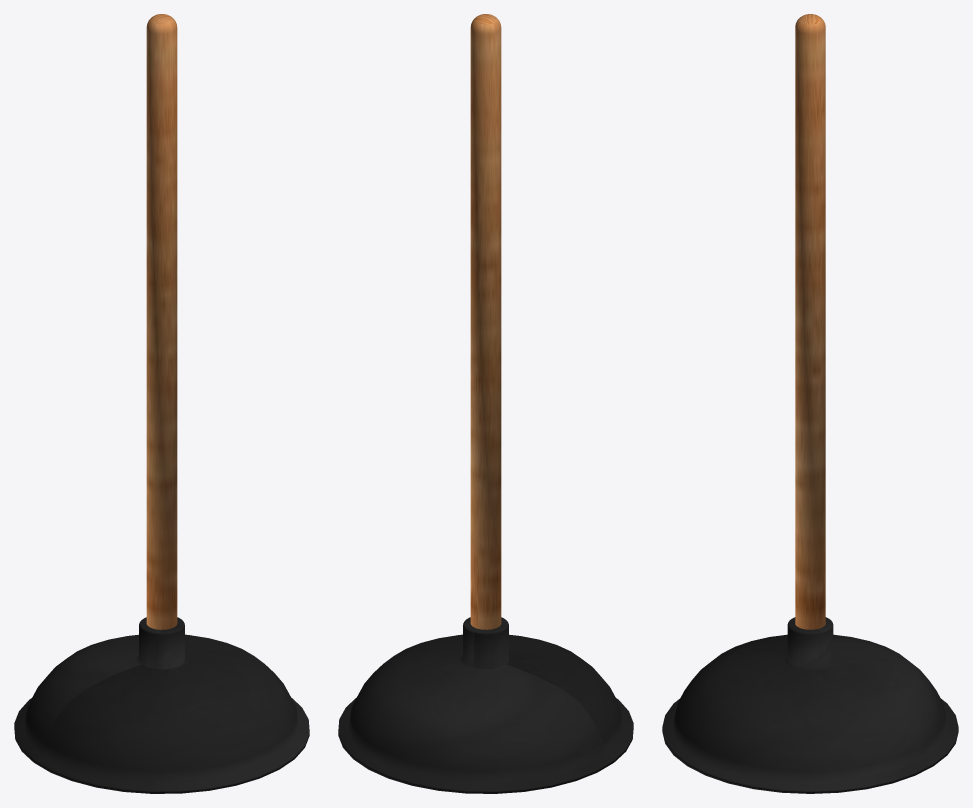
Rendered from plunger.fbx.
3 views of the same model, side by side, from view 1: azimuth 30°, elevation 25°; view 2: azimuth 150°, elevation 25°; view 3: azimuth 270°, elevation 25° (orthographic).
Parts seen in each view (by area): view 1: plunger head, handle; view 2: plunger head, handle; view 3: plunger head, handle.
Part boxes in pixels (<box>): plunger head: <box>14,617,309,793</box>; handle: <box>146,14,177,629</box>; plunger head: <box>338,617,633,793</box>; handle: <box>470,14,501,629</box>; plunger head: <box>662,617,958,793</box>; handle: <box>795,14,825,629</box>.
Bounding box in the file's own units: 19.31 × 51.51 × 19.35.
2 materials, 2 textured.
